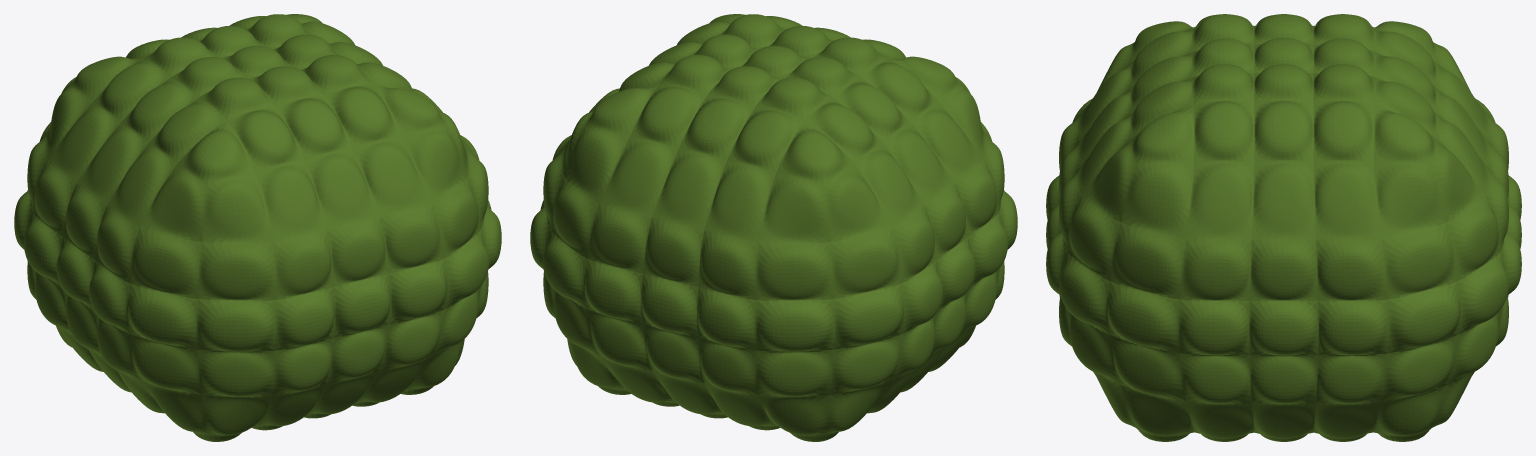
File: cactus_small.fbx
The picture shows the model from 3 angles, left to right: view 1: azimuth 30°, elevation 25°; view 2: azimuth 150°, elevation 25°; view 3: azimuth 270°, elevation 25°; orthographic projection. The views are drawn at different scales.
Visible parts, largest first — view 1: Cactus2; view 2: Cactus2; view 3: Cactus2.
Boxes of the visible parts, x1,y1,x2,y2 form: Cactus2: (14,14,501,441); Cactus2: (530,14,1017,441); Cactus2: (1046,14,1521,441).
Size of the model in its own units: 642 by 510 by 642.
